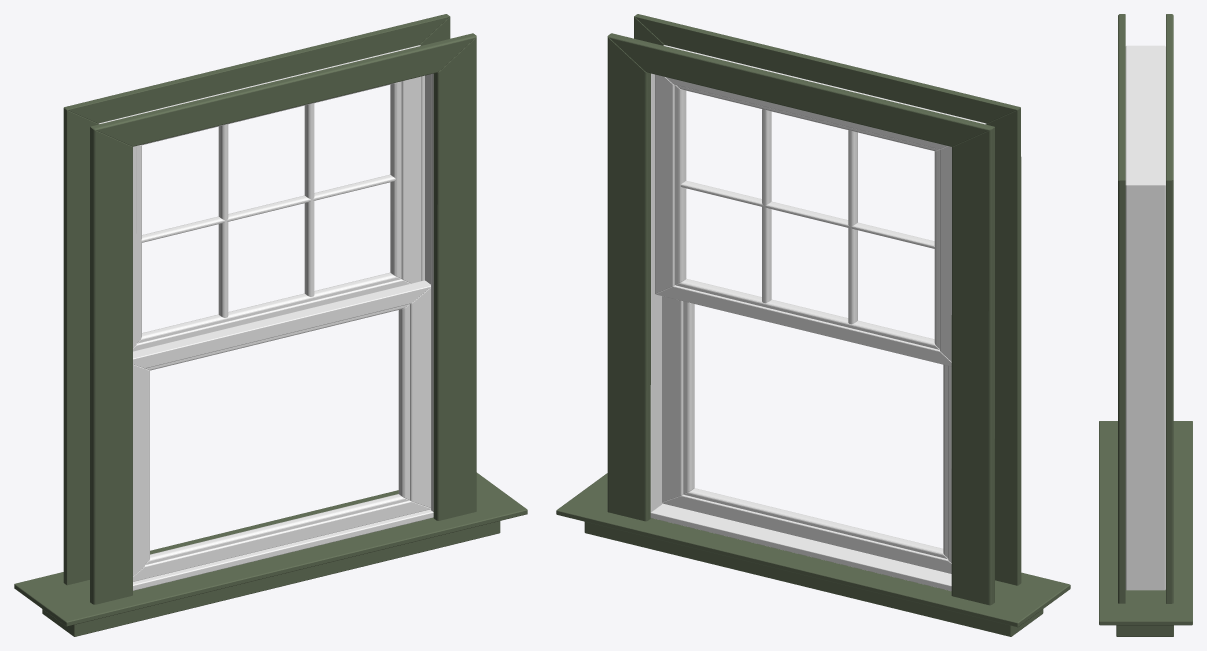
The model's file is ventana.obj.
3 renders of one model, left to right at view 1: azimuth 30°, elevation 25°; view 2: azimuth 150°, elevation 25°; view 3: azimuth 270°, elevation 25°, orthographic. The views are drawn at different scales.
Parts seen in each view (by area): view 1: ventana:marcIntFrontDer, ventana:marcIntFrontIzq, ventana:marcExtFrontDer, ventana:base, ventana:marIntFrontSup, ventana:marcExtFrontSup, ventana:marcoCentral, ventana:HojaHorizontal1, ventana:base1, ventana:marcoInteriorInferior5, ventana:marcoIzq, ventana:marcoInteriorInferior6 (+13 smaller); view 2: ventana:marcExtFrontIzq, ventana:marcExtFrontDer, ventana:marcIntFrontIzq, ventana:base, ventana:marcExtFrontSup, ventana:marcoCentral, ventana:marIntFrontSup, ventana:base1, ventana:marcoInteriorInferior5, ventana:marcoIzq, ventana:marcoMedio, ventana:marcoInteriorInferior6 (+13 smaller); view 3: ventana:marcoCentral, ventana:base, ventana:marcExtFrontIzq, ventana:marcIntFrontDer, ventana:marcExtFrontSup, ventana:marIntFrontSup, ventana:base1.
Part boxes in pixels (left/top/right/bottom): ventana:marcIntFrontDer: left=433, top=36, right=476, bottom=520; ventana:marcIntFrontIzq: left=90, top=127, right=132, bottom=604; ventana:marcExtFrontDer: left=63, top=108, right=98, bottom=585; ventana:base: left=14, top=472, right=527, bottom=626; ventana:marIntFrontSup: left=90, top=33, right=476, bottom=146; ventana:marcExtFrontSup: left=64, top=14, right=449, bottom=123; ventana:marcoCentral: left=98, top=45, right=433, bottom=590; ventana:HojaHorizontal1: left=133, top=280, right=430, bottom=368; ventana:base1: left=42, top=521, right=500, bottom=636; ventana:marcoInteriorInferior5: left=410, top=287, right=430, bottom=507; ventana:marcoIzq: left=401, top=76, right=421, bottom=283; ventana:marcoInteriorInferior6: left=133, top=500, right=430, bottom=581; ventana:marcExtFrontIzq: left=607, top=36, right=650, bottom=521; ventana:marcExtFrontDer: left=951, top=127, right=994, bottom=605; ventana:marcIntFrontIzq: left=986, top=107, right=1021, bottom=585; ventana:base: left=556, top=473, right=1070, bottom=627; ventana:marcExtFrontSup: left=608, top=33, right=994, bottom=146; ventana:marcoCentral: left=650, top=45, right=986, bottom=591; ventana:marIntFrontSup: left=634, top=14, right=1020, bottom=123; ventana:base1: left=584, top=522, right=1043, bottom=636; ventana:marcoInteriorInferior5: left=662, top=296, right=683, bottom=502; ventana:marcoIzq: left=655, top=74, right=674, bottom=293; ventana:marcoMedio: left=655, top=285, right=951, bottom=366; ventana:marcoInteriorInferior6: left=662, top=494, right=951, bottom=573; ventana:marcoCentral: left=1125, top=45, right=1165, bottom=590; ventana:base: left=1099, top=421, right=1192, bottom=625; ventana:marcExtFrontIzq: left=1166, top=180, right=1173, bottom=603; ventana:marcIntFrontDer: left=1118, top=180, right=1125, bottom=603; ventana:marcExtFrontSup: left=1166, top=14, right=1173, bottom=180; ventana:marIntFrontSup: left=1118, top=14, right=1125, bottom=180; ventana:base1: left=1116, top=625, right=1173, bottom=636.
Size of the model in its own units: 7.17 by 7.45 by 1.42.
2 materials, 2 textured.
